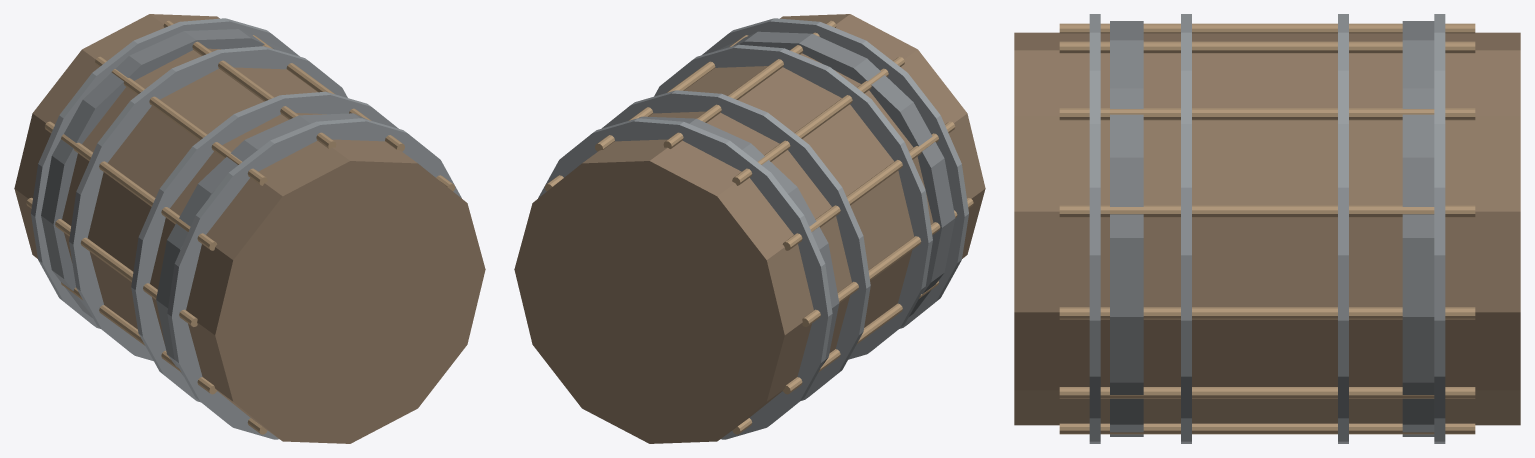
File: SM_Barrel.glb
The picture shows the model from 3 angles, left to right: view 1: azimuth 30°, elevation 25°; view 2: azimuth 150°, elevation 25°; view 3: azimuth 270°, elevation 25°; orthographic projection. The views are drawn at different scales.
Visible parts, largest first — view 1: SM_Barrel_002, SM_Barrel_006, SM_Barrel_004, SM_Barrel_005, SM_Barrel_001, SM_Barrel_003, SM_Barrel_000, SM_Barrel_012, SM_Barrel_011, SM_Barrel_013, SM_Barrel_010, SM_Barrel_014 (+1 smaller); view 2: SM_Barrel_002, SM_Barrel_003, SM_Barrel_005, SM_Barrel_004, SM_Barrel_000, SM_Barrel_006, SM_Barrel_001, SM_Barrel_012, SM_Barrel_011, SM_Barrel_013, SM_Barrel_010, SM_Barrel_014 (+1 smaller); view 3: SM_Barrel_002, SM_Barrel_000, SM_Barrel_001, SM_Barrel_003, SM_Barrel_006, SM_Barrel_004, SM_Barrel_005, SM_Barrel_008, SM_Barrel_009, SM_Barrel_007, SM_Barrel_010, SM_Barrel_018 (+2 smaller).
Boxes of the visible parts, box(x1,y1,x2,y2) form: SM_Barrel_002: box(14, 14, 485, 443); SM_Barrel_006: box(167, 118, 461, 439); SM_Barrel_004: box(69, 46, 347, 360); SM_Barrel_005: box(131, 91, 398, 402); SM_Barrel_001: box(41, 29, 289, 317); SM_Barrel_003: box(31, 18, 299, 328); SM_Barrel_000: box(156, 113, 367, 374); SM_Barrel_012: box(44, 121, 217, 250); SM_Barrel_011: box(95, 56, 267, 185); SM_Barrel_013: box(26, 197, 197, 326); SM_Barrel_010: box(163, 20, 336, 148); SM_Barrel_014: box(61, 282, 217, 394); SM_Barrel_002: box(514, 14, 985, 443); SM_Barrel_003: box(538, 118, 832, 439); SM_Barrel_005: box(654, 44, 932, 359); SM_Barrel_004: box(602, 90, 870, 400); SM_Barrel_000: box(715, 31, 955, 316); SM_Barrel_006: box(702, 18, 968, 328); SM_Barrel_001: box(638, 116, 839, 365); SM_Barrel_012: box(782, 121, 955, 250); SM_Barrel_011: box(732, 56, 904, 185); SM_Barrel_013: box(802, 197, 973, 326); SM_Barrel_010: box(663, 20, 836, 148); SM_Barrel_014: box(782, 281, 938, 394); SM_Barrel_002: box(1014, 32, 1520, 425); SM_Barrel_000: box(1110, 21, 1143, 436); SM_Barrel_001: box(1402, 21, 1434, 436); SM_Barrel_003: box(1434, 14, 1445, 443); SM_Barrel_006: box(1089, 14, 1100, 443); SM_Barrel_004: box(1338, 14, 1348, 443); SM_Barrel_005: box(1181, 14, 1191, 443); SM_Barrel_008: box(1059, 205, 1475, 217); SM_Barrel_009: box(1059, 108, 1475, 120); SM_Barrel_007: box(1059, 307, 1475, 319); SM_Barrel_010: box(1059, 41, 1475, 53); SM_Barrel_018: box(1059, 387, 1475, 398).
Size of the model in its own units: 0.7696 by 0.7696 by 0.9.
